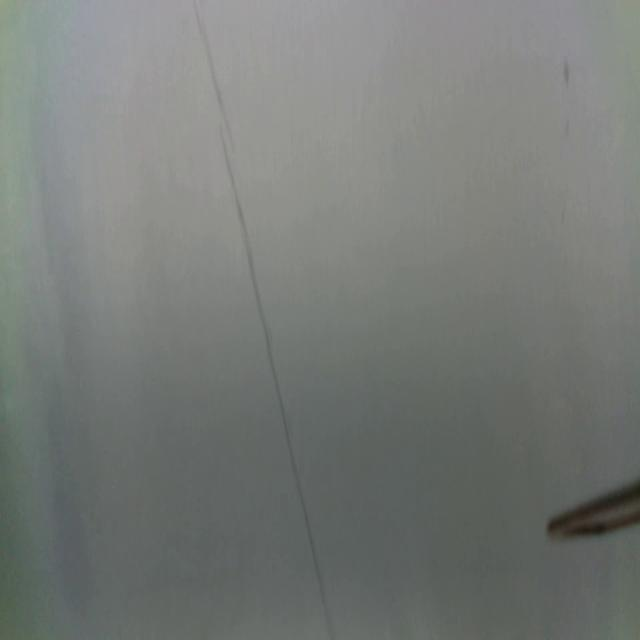crease: (193, 0, 330, 638)
